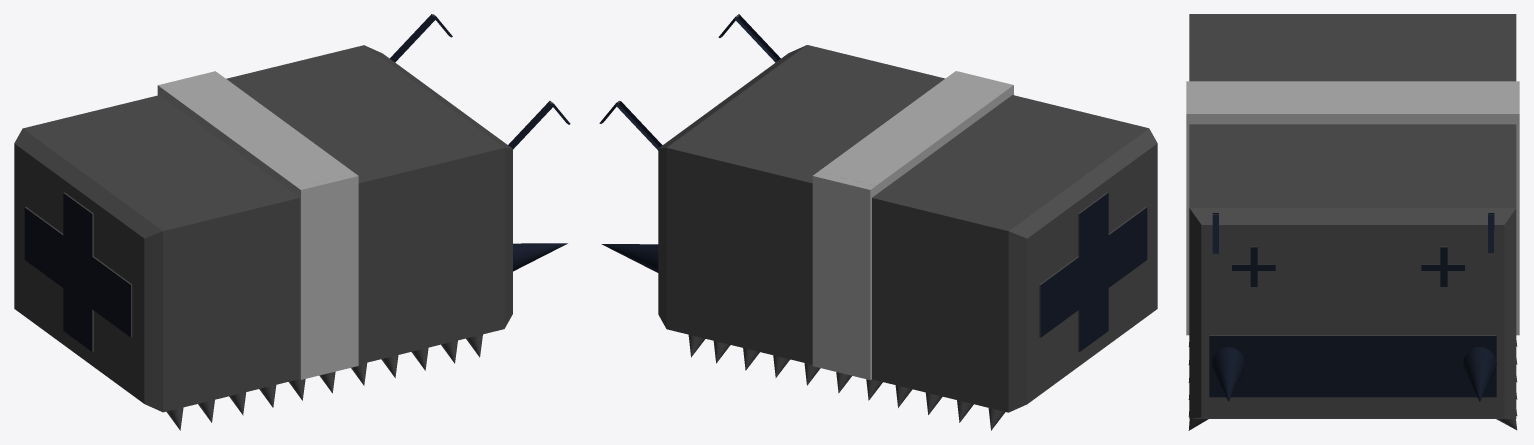
The model's file is chargibug.fbx.
3 renders of one model, left to right at view 1: azimuth 30°, elevation 25°; view 2: azimuth 150°, elevation 25°; view 3: azimuth 270°, elevation 25°, orthographic. The views are drawn at different scales.
Parts seen in each view (by area): view 1: Icosphere.003; view 2: Icosphere.003; view 3: Icosphere.003.
Boxes of the visible parts, bbox=[...] form: Icosphere.003: bbox=[14, 14, 570, 430]; Icosphere.003: bbox=[599, 14, 1157, 430]; Icosphere.003: bbox=[1186, 14, 1519, 430].
Bounding box in the file's own units: 360 × 179 × 204.
